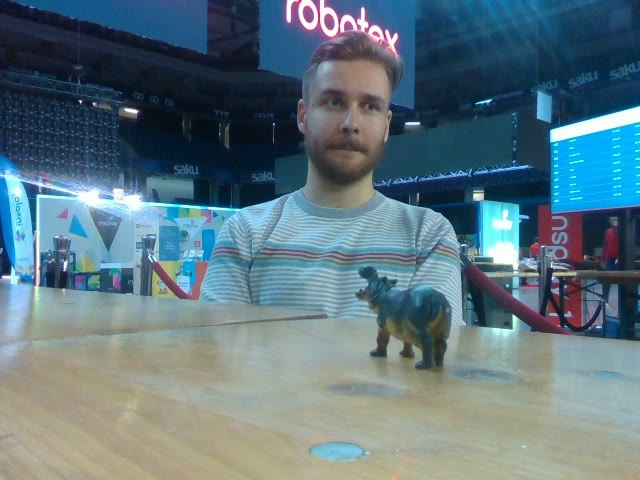toy: (355, 266, 452, 370)
